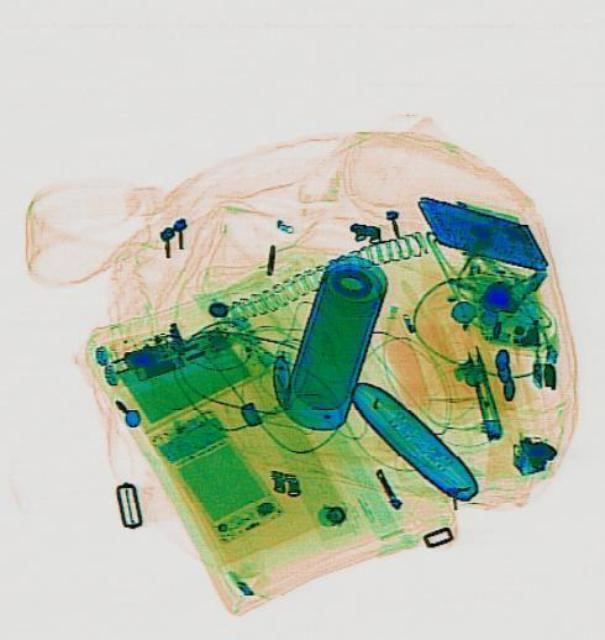Scissors: (460, 340, 503, 440)
